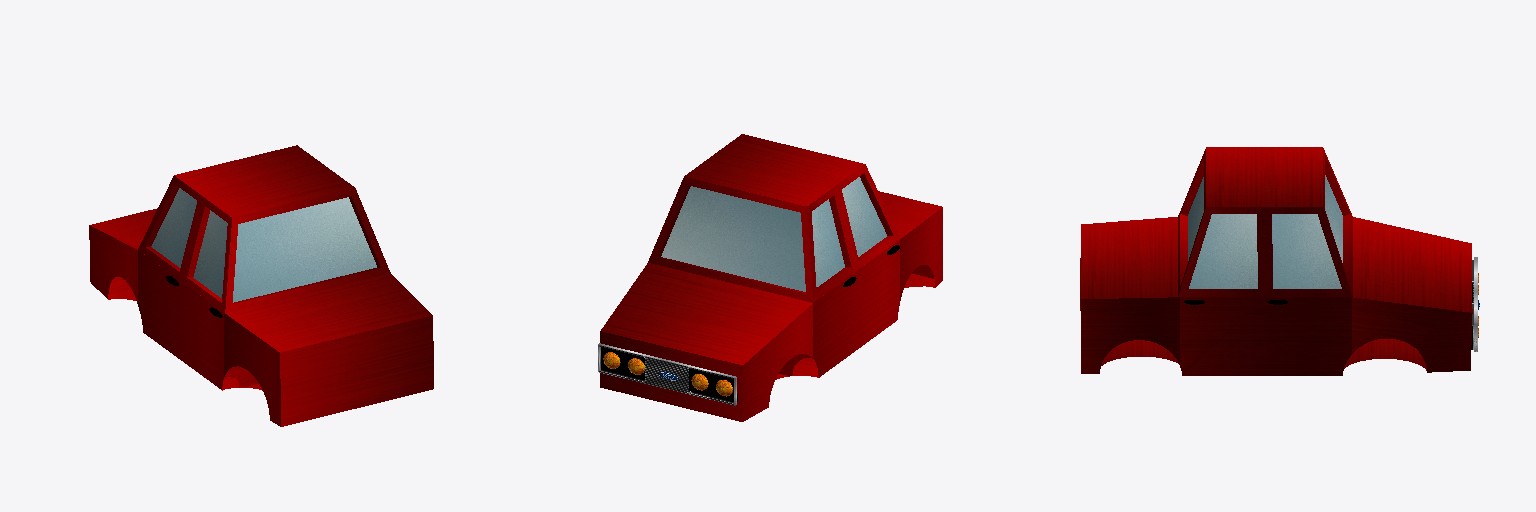
The picture shows the model from 3 angles: view 1: azimuth 30°, elevation 25°; view 2: azimuth 150°, elevation 25°; view 3: azimuth 270°, elevation 25°; orthographic projection.
Parts seen in each view (by area): view 1: Carrito1:vent4; view 2: Carrito1:vent4; view 3: Carrito1:vent4.
Boxes of the visible parts, <box> form: Carrito1:vent4: <box>89,145,433,426</box>; Carrito1:vent4: <box>598,134,942,421</box>; Carrito1:vent4: <box>1080,147,1479,375</box>.
Bounding box in the file's own units: 2.08 × 1.84 × 4.17.
Materials: 7 (5 with a texture image).